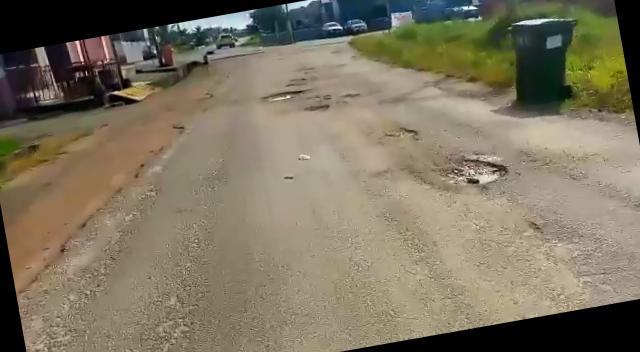pothole: (439, 144, 512, 196), (261, 84, 309, 102), (382, 124, 418, 144), (300, 100, 330, 116)
